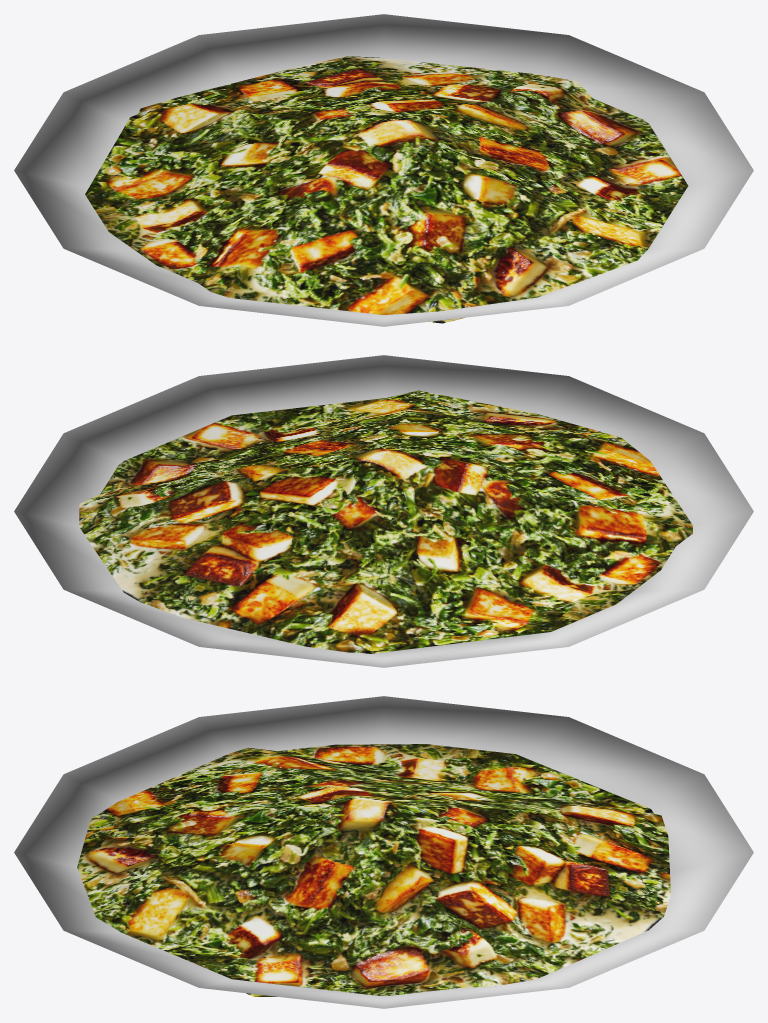
The model's file is SM_PlateVeg.fbx.
3 renders of one model, top to bottom at view 1: azimuth 30°, elevation 25°; view 2: azimuth 150°, elevation 25°; view 3: azimuth 270°, elevation 25°, orthographic.
Parts seen in each view (by area): view 1: FoodClump_Veg, plate; view 2: FoodClump_Veg, plate; view 3: FoodClump_Veg, plate.
Boxes of the visible parts, x1,y1,x2,y2 form: FoodClump_Veg: [85, 56, 688, 323]; plate: [14, 14, 753, 326]; FoodClump_Veg: [79, 390, 692, 653]; plate: [14, 355, 753, 667]; FoodClump_Veg: [77, 744, 670, 996]; plate: [14, 696, 753, 1008].
Bounding box in the file's own units: 18 × 18 × 2.18.
